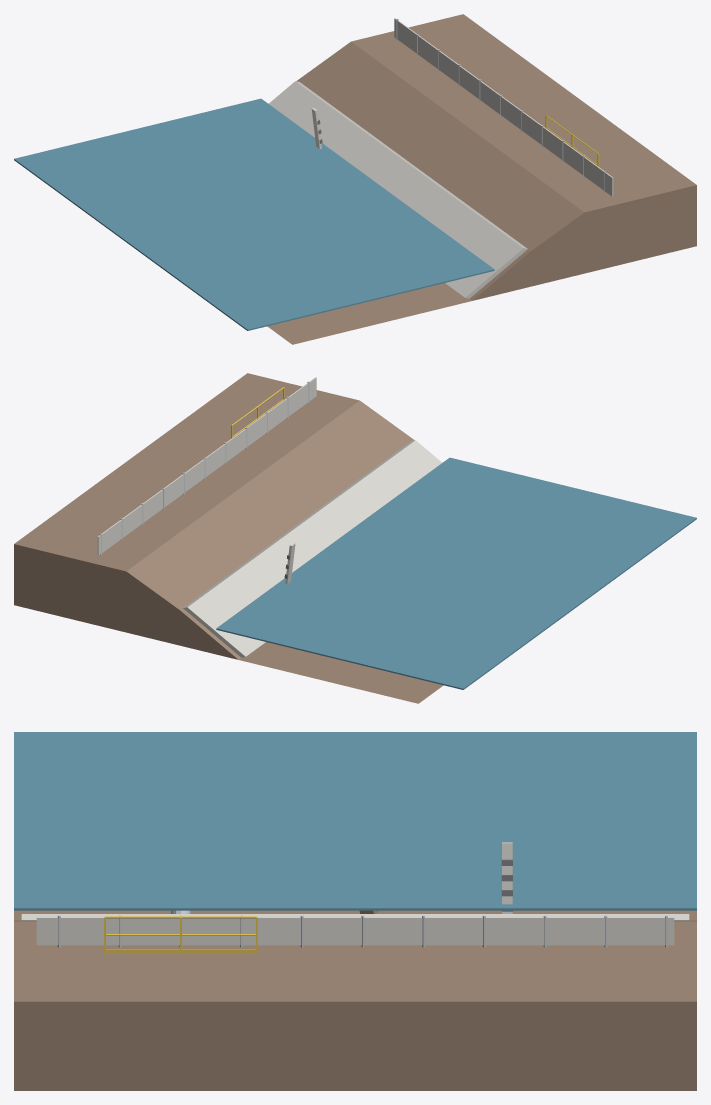
Rendered from ore-processing-and-haulage-plant-settling-pond-edge-e28c77f9.glb.
3 renders of one model, top to bottom at view 1: azimuth 30°, elevation 25°; view 2: azimuth 150°, elevation 25°; view 3: azimuth 270°, elevation 25°, orthographic. The views are drawn at different scales.
Visible parts, largest first — view 1: settling-pond-edge; view 2: settling-pond-edge; view 3: settling-pond-edge.
Part boxes in pixels (left/top/right/bottom): settling-pond-edge: left=14, top=14, right=696, bottom=344; settling-pond-edge: left=14, top=373, right=696, bottom=703; settling-pond-edge: left=14, top=732, right=696, bottom=1090.
Size of the model in its own units: 20 by 3.67 by 18.
